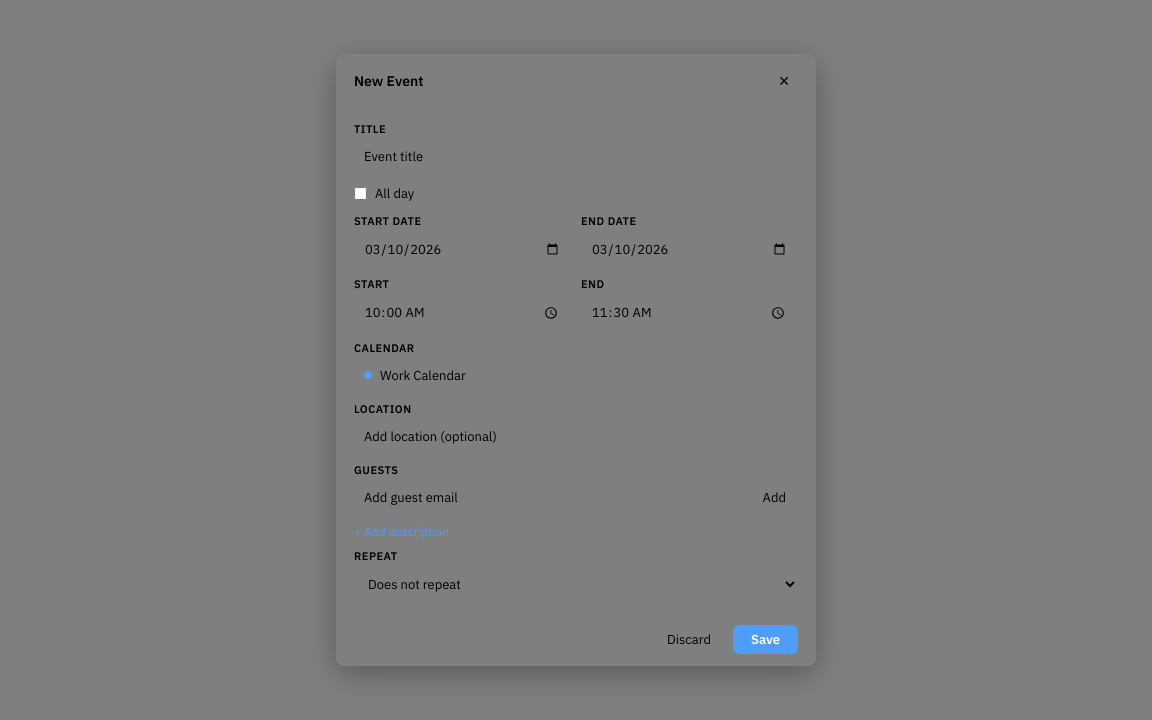
EventModal › should preserve event duration when changing start time
// Change start time from 10:00 to 14:00 — end should adjust to 15:30
Replace the text in the 1st time field showing "10:00" with "14:00". click: (462, 313)
box: [354,295,571,331]
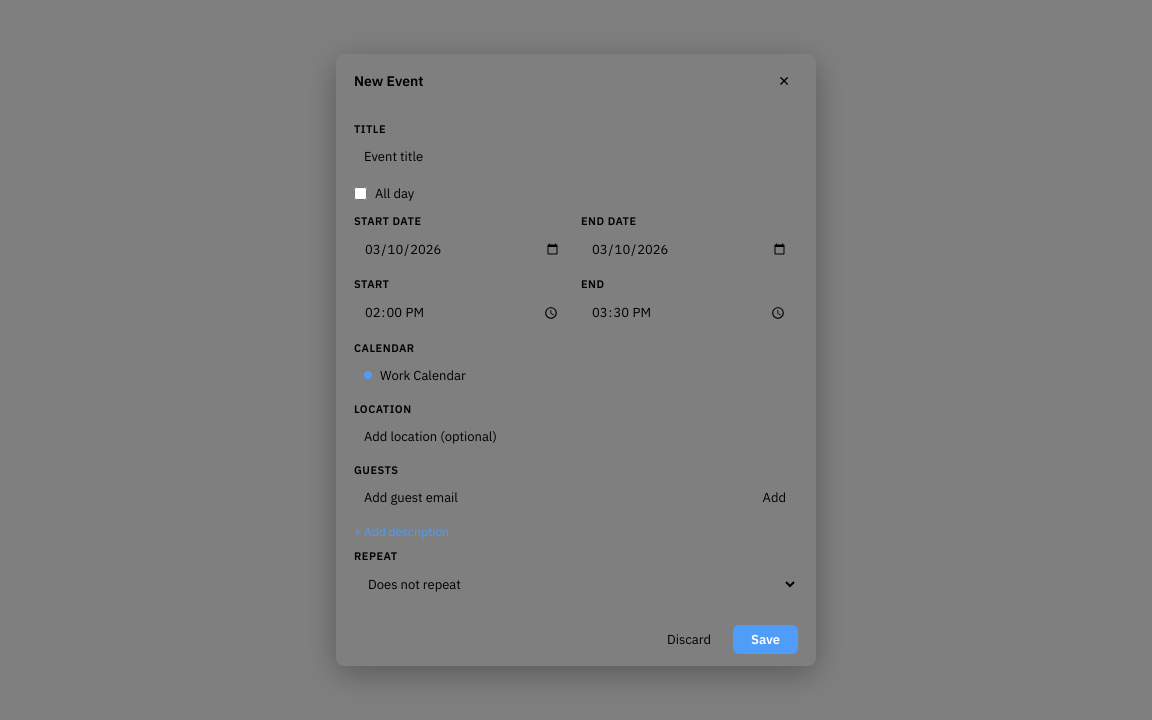
Result: the 2nd time field showing "11:30" holds "15:30" at [581,295,798,331]
